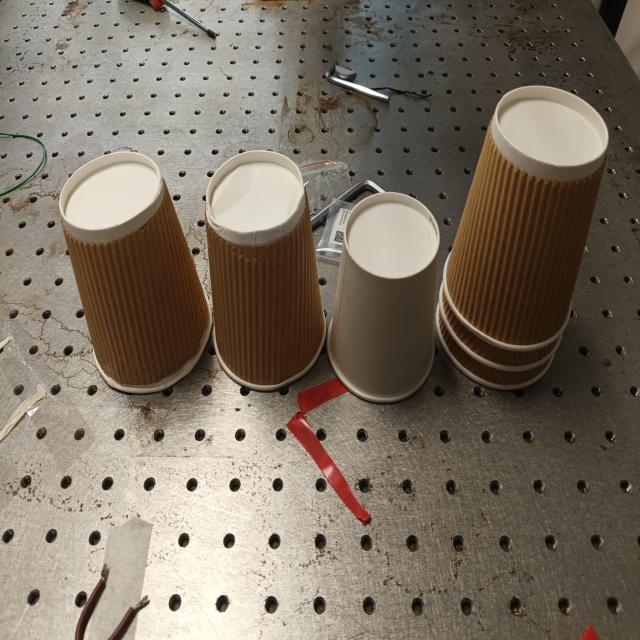Browncup: (436, 85, 608, 389), (59, 152, 212, 393), (206, 151, 326, 390), (441, 296, 560, 365), (438, 319, 543, 388)
Whitecup: (328, 192, 440, 402)
